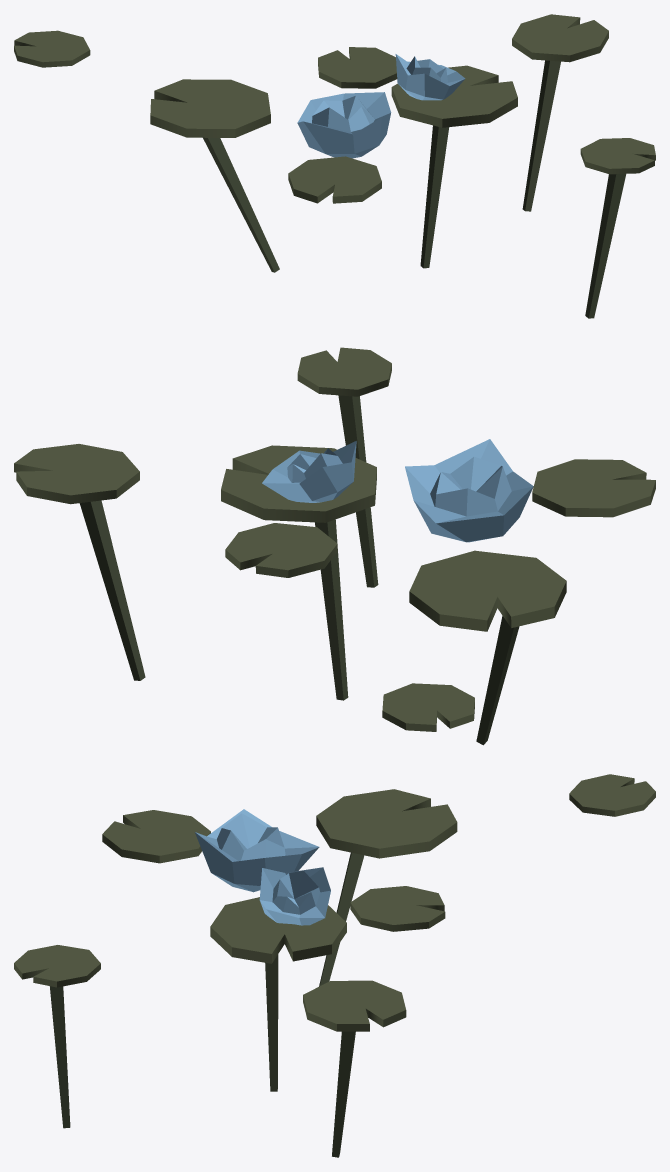
Rendered from nature_SM_Plant_Lillypad_Small_01.gltf.
The picture shows the model from 3 angles, top to bottom: view 1: azimuth 30°, elevation 25°; view 2: azimuth 150°, elevation 25°; view 3: azimuth 270°, elevation 25°; orthographic projection. The views are drawn at different scales.
Visible parts, largest first — view 1: SM_Plant_Lillypad_Small_01; view 2: SM_Plant_Lillypad_Small_01; view 3: SM_Plant_Lillypad_Small_01.
Part boxes in pixels (x1,y1,x2,y2): SM_Plant_Lillypad_Small_01: (14,14,655,318); SM_Plant_Lillypad_Small_01: (14,347,655,745); SM_Plant_Lillypad_Small_01: (14,774,655,1157).
Size of the model in its own units: 1.74 by 0.7143 by 1.88.
Materials: 1 (1 with a texture image).
